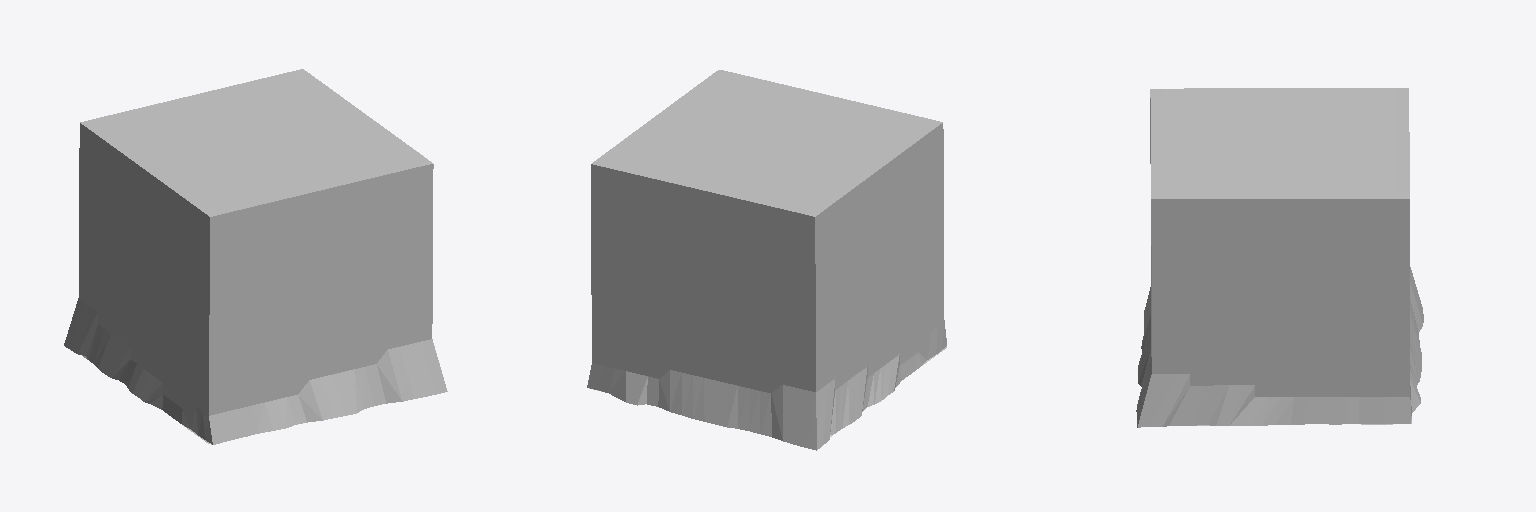
Rendered from mod0170.obj.
The picture shows the model from 3 angles: view 1: azimuth 30°, elevation 25°; view 2: azimuth 150°, elevation 25°; view 3: azimuth 270°, elevation 25°; orthographic projection.
Visible parts, largest first — view 1: Box001; view 2: Box001; view 3: Box001.
Boxes of the visible parts, <box> form: Box001: <box>64,69,447,444</box>; Box001: <box>587,70,946,450</box>; Box001: <box>1136,88,1423,427</box>.
Size of the model in its own units: 0.5799 by 0.5221 by 0.5979.